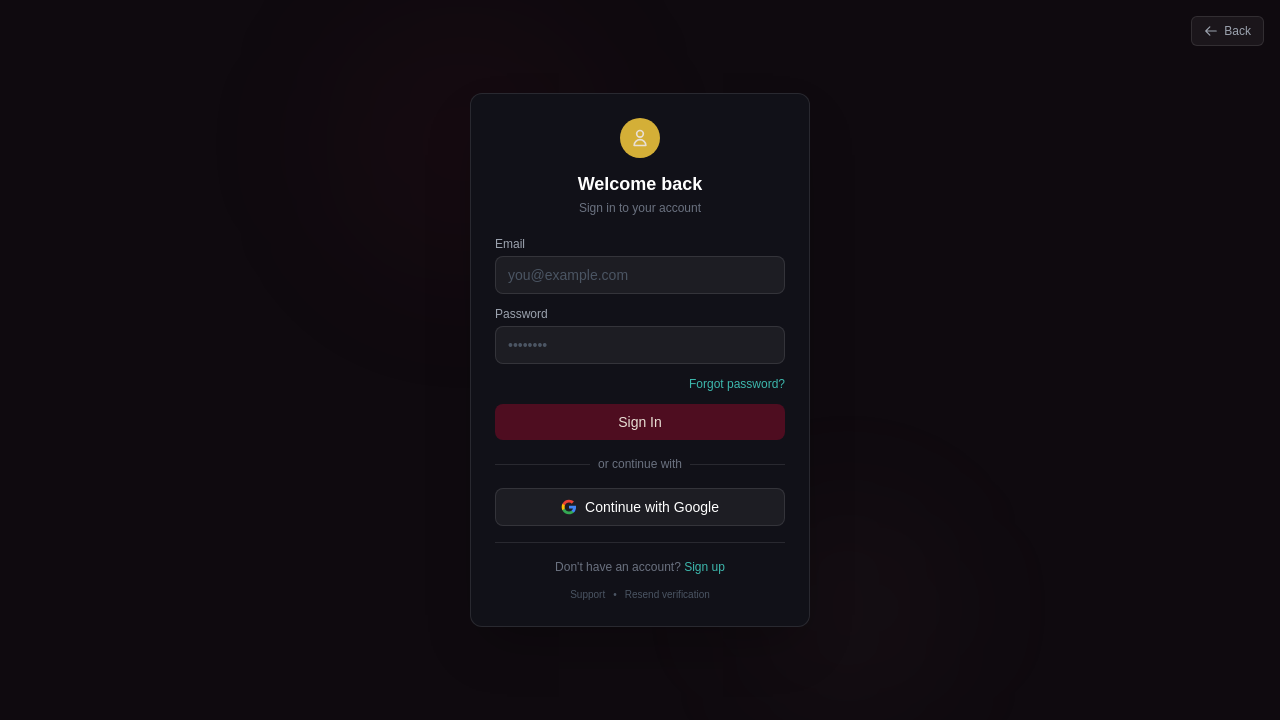
Authentication Flow › Login Page › should show error for short password
Expected: the heading "Welcome back" is shown, [578,174,702,194]
Type "test@example.com" into the field with placeholder "you@example.com".
click(640, 275); type("test@example.com")  # box [495,256,785,294]
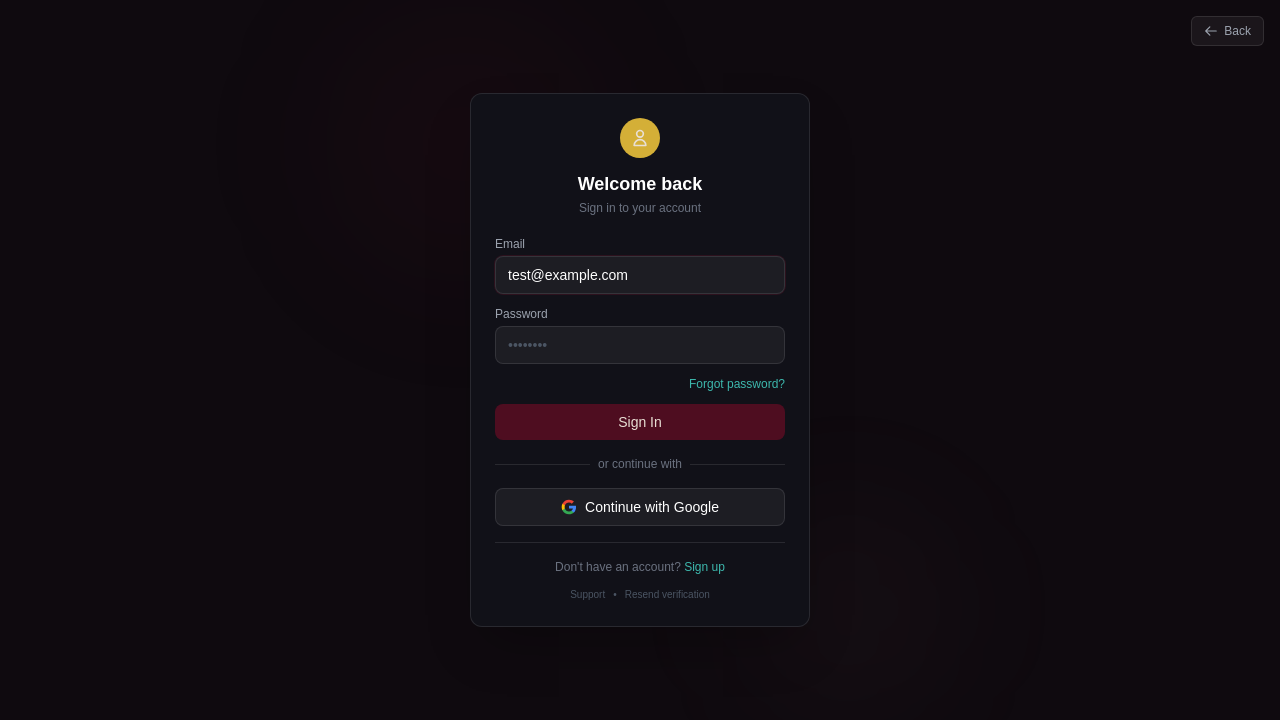
Type "short" into the password field with placeholder "••••••••".
click(640, 345); type("short")  # box [495,326,785,364]
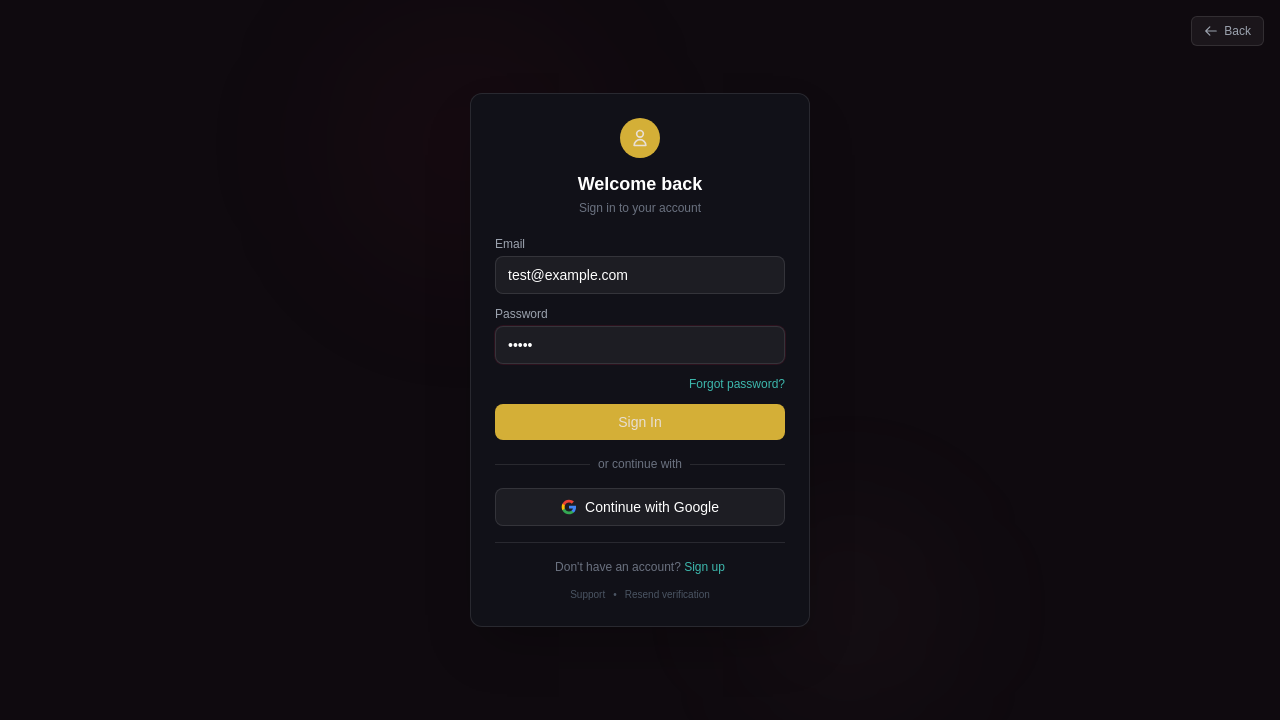
Click the submit button.
click(640, 422)  # box [495,404,785,440]
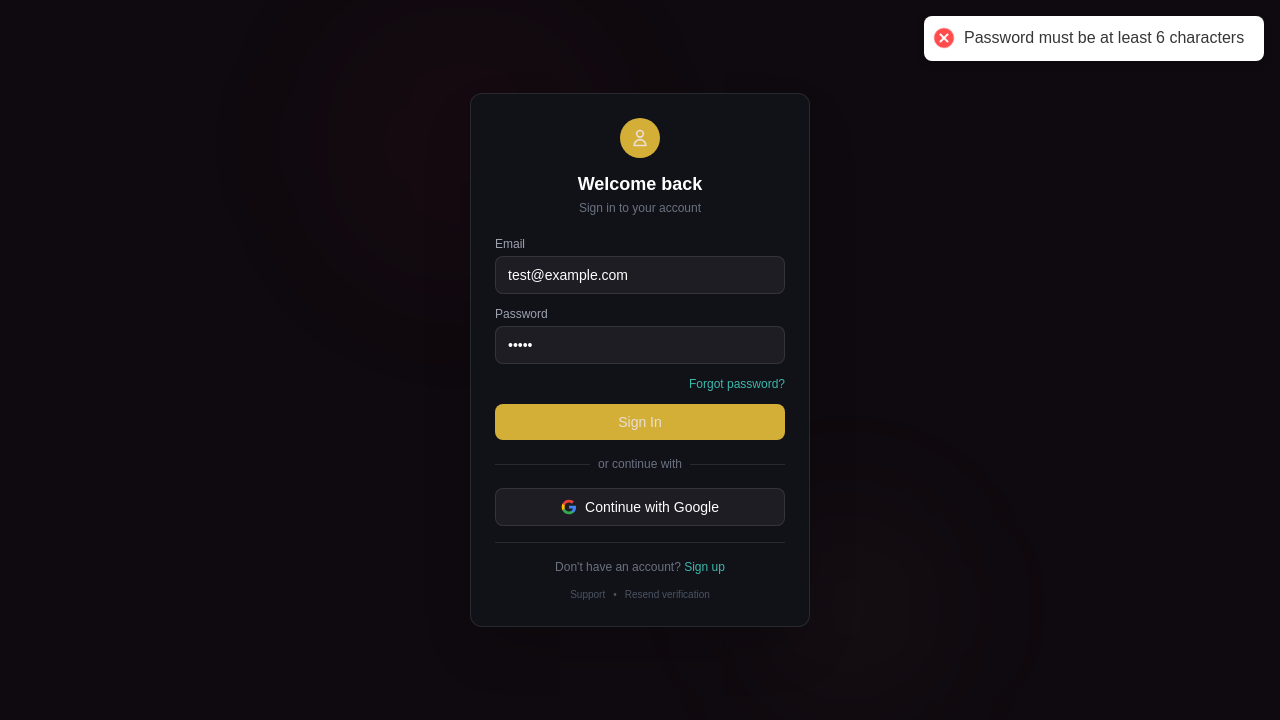
Expected: the message "Password must be at least 6 characters" is shown, [964,28,1244,49]
